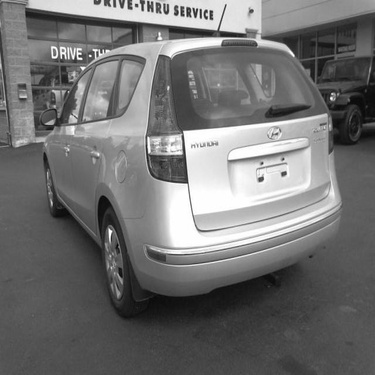car: (41, 25, 347, 318), (310, 53, 372, 147), (30, 67, 97, 132)
